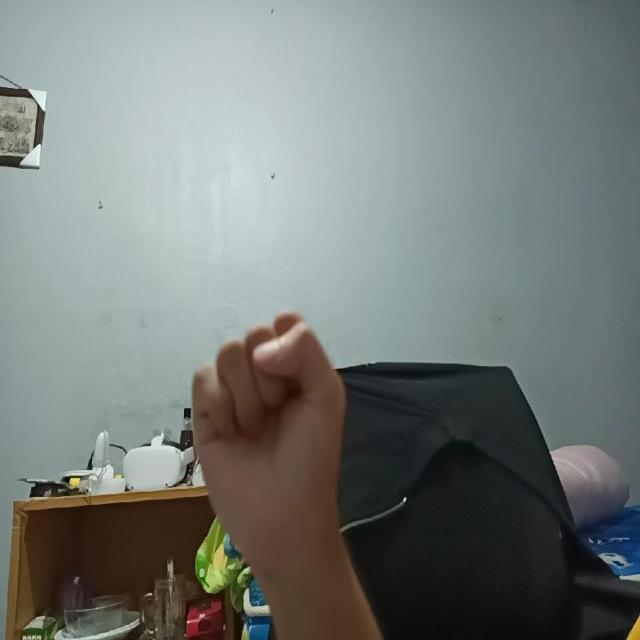fist: (198, 296, 347, 572)
